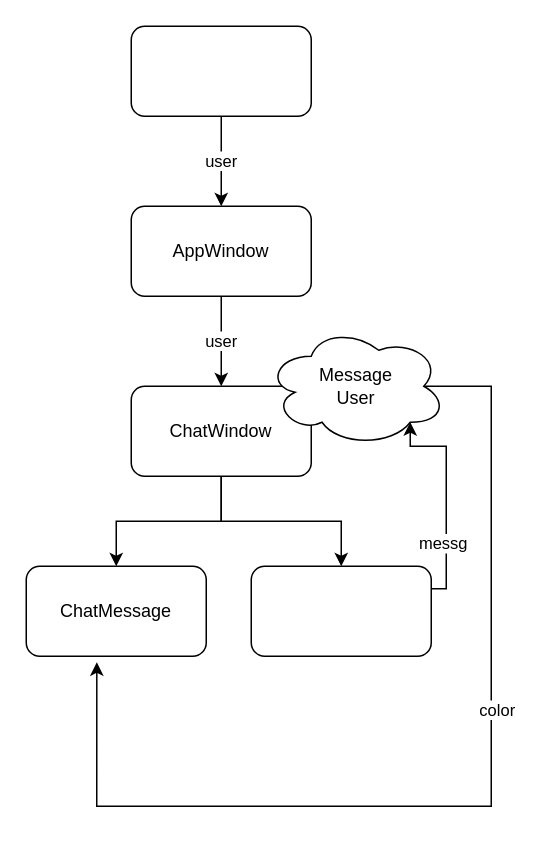
Image size: 540x845. Some labels were removed from this diagram. The centre of each missing label's shape, as x and y in pixels:
App.js: pixel 220 70
TypeMessage: pixel 340 610
